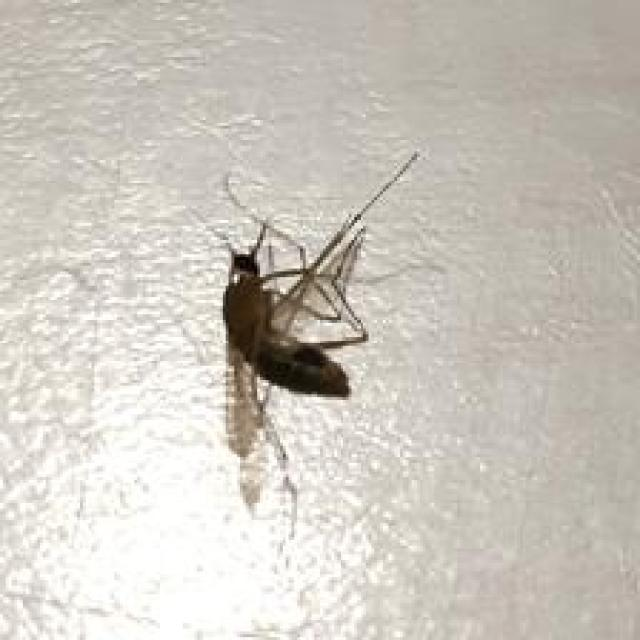Culex: (216, 149, 421, 537)
